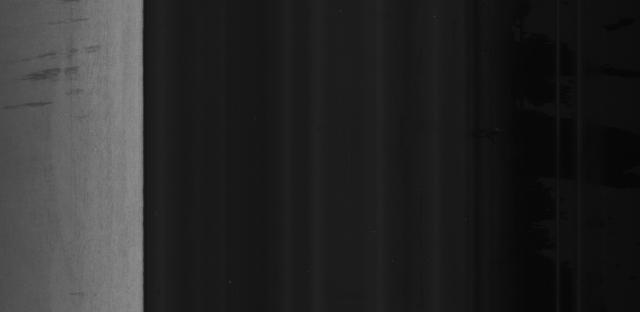water_spot: (14, 13, 124, 118)
